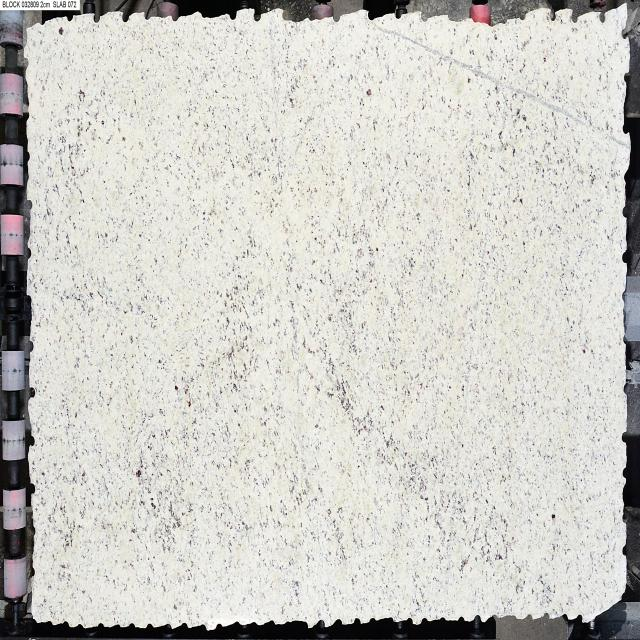chapa: (24, 3, 632, 631)
veio: (28, 380, 38, 400), (251, 5, 261, 24), (28, 478, 36, 499), (548, 6, 557, 24), (621, 26, 631, 42), (620, 247, 628, 267), (226, 9, 237, 23), (27, 338, 36, 354), (570, 8, 580, 22), (91, 12, 100, 26), (598, 9, 606, 23), (621, 428, 627, 446), (121, 12, 129, 24)
